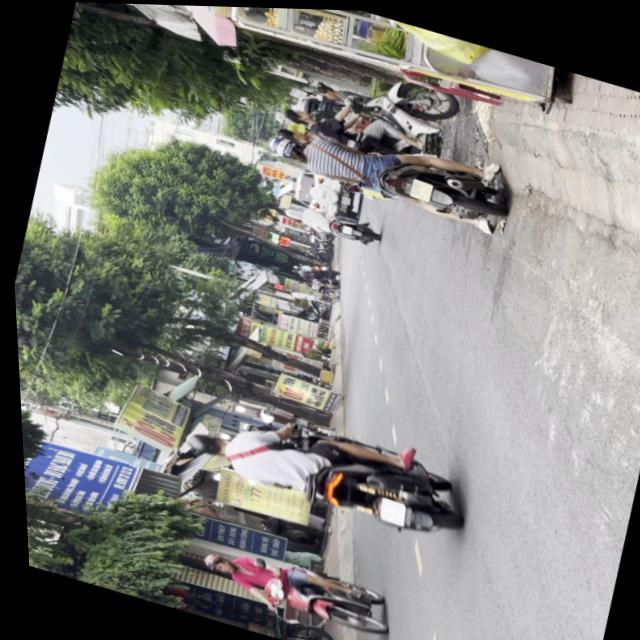helmet: (175, 426, 222, 459), (263, 131, 304, 163), (192, 550, 229, 576)
licenseplate: (169, 383, 472, 546), (255, 103, 513, 237), (184, 534, 389, 640)
motorcyclist: (175, 426, 222, 459)
nohelmet: (369, 494, 402, 524), (405, 176, 430, 199)
